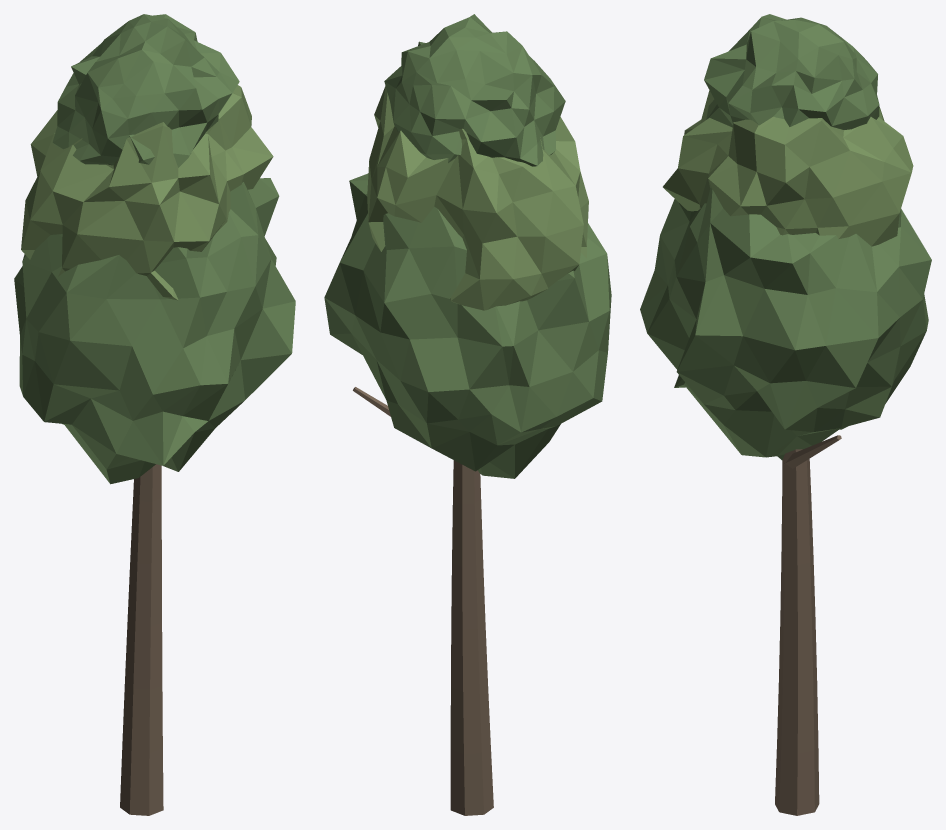
Rendered from SM_Tree_C.fbx.
3 renders of one model, left to right at view 1: azimuth 30°, elevation 25°; view 2: azimuth 150°, elevation 25°; view 3: azimuth 270°, elevation 25°, orthographic.
Parts seen in each view (by area): view 1: SM_Tree_C; view 2: SM_Tree_C; view 3: SM_Tree_C.
Boxes of the visible parts, x1,y1,x2,y2 form: SM_Tree_C: (14,14,295,815); SM_Tree_C: (324,14,611,815); SM_Tree_C: (640,14,931,815).
Size of the model in its own units: 4.95 by 14.58 by 4.87.
